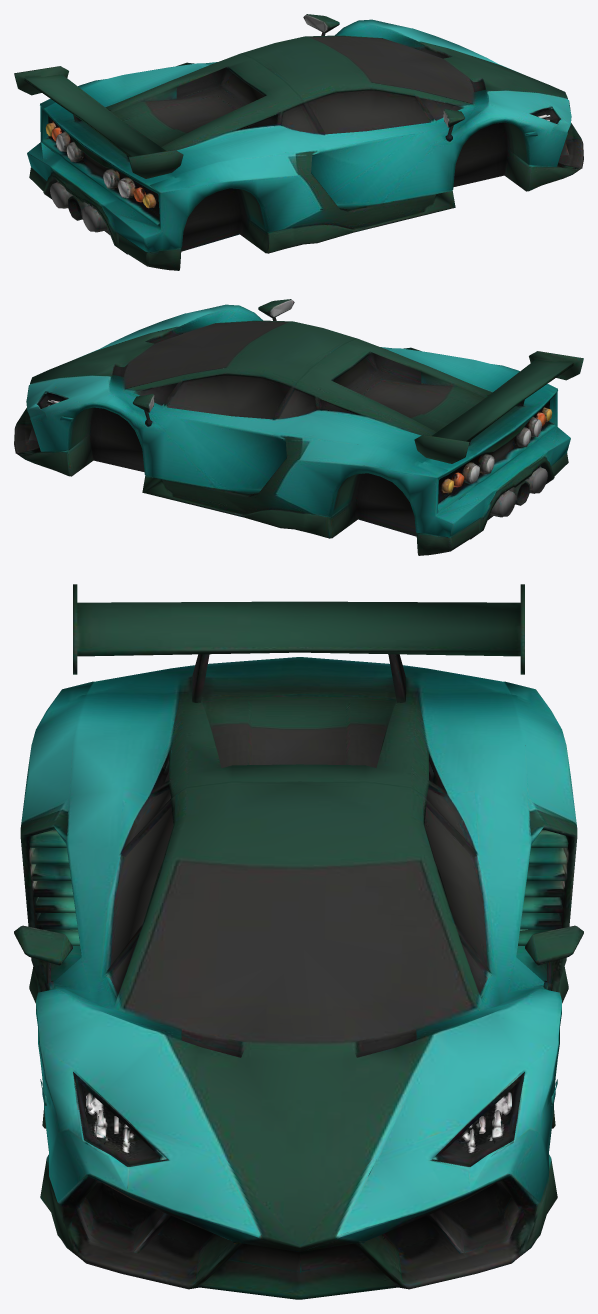
The model's file is night_viper.glb.
The picture shows the model from 3 angles, top to bottom: view 1: azimuth 30°, elevation 25°; view 2: azimuth 150°, elevation 25°; view 3: azimuth 270°, elevation 25°; orthographic projection. The views are drawn at different scales.
Visible parts, largest first — view 1: tripo_node_b26064aa-6197-4733-9a38-3415f06c2799; view 2: tripo_node_b26064aa-6197-4733-9a38-3415f06c2799; view 3: tripo_node_b26064aa-6197-4733-9a38-3415f06c2799.
Part boxes in pixels (<box>): tripo_node_b26064aa-6197-4733-9a38-3415f06c2799: <box>14,14,583,270</box>; tripo_node_b26064aa-6197-4733-9a38-3415f06c2799: <box>14,299,583,555</box>; tripo_node_b26064aa-6197-4733-9a38-3415f06c2799: <box>14,584,583,1299</box>.
Bounding box in the file's own units: 0.998 × 0.2402 × 0.5098.
Materials: 1 (1 with a texture image).
